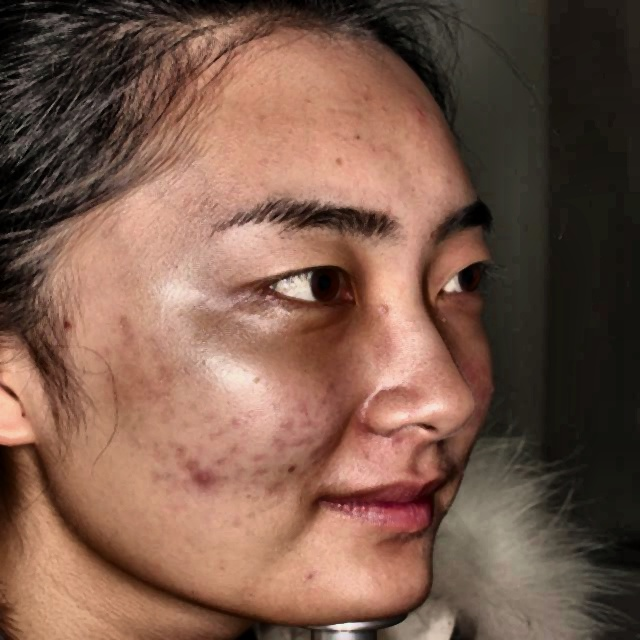comedone: (185, 457, 215, 491)
